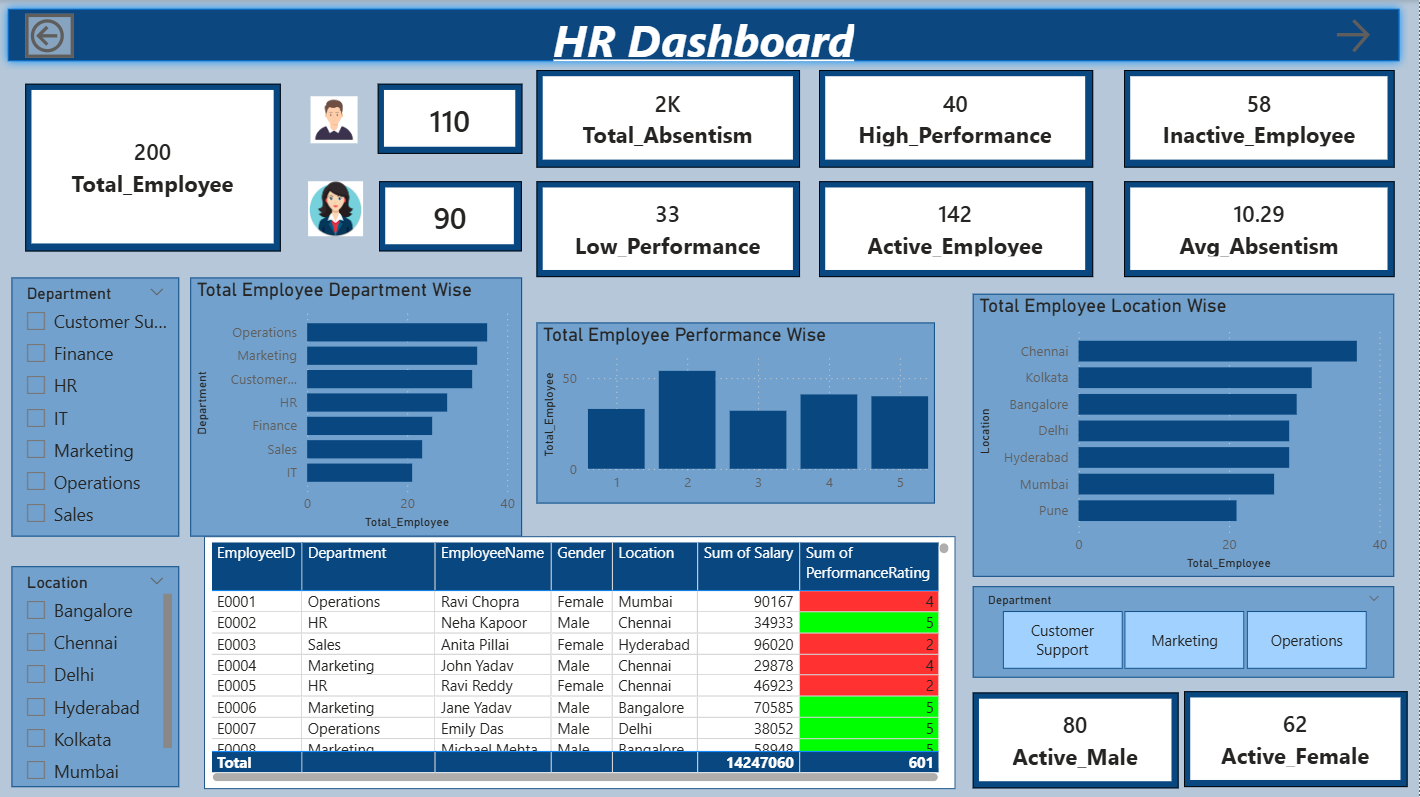

The page's visual inventory and layout, read from the dashboard file:
{"tool":"powerbi","page":{"name":"Dashboard","canvas":[1280,720],"ordinal":1},"visuals":[{"type":"shape","box":[0,0,1270.7,63.1],"z":0},{"type":"cardVisual","fields":{"Data":["Sheet1.M_Active_Employee"]},"box":[739.6,163.3,247,86.4],"z":1000},{"type":"cardVisual","fields":{"Data":["Sheet1.M_Inactive_Employee"]},"box":[1014.1,63.1,244.3,87.8],"z":2000},{"type":"cardVisual","fields":{"Data":["Sheet1._M_Total_Employee"]},"box":[23.3,75.5,230.5,150.9],"z":3000},{"type":"cardVisual","fields":{"Data":["Sheet1.M_Female"]},"box":[343.1,163.3,129,63.1],"z":4000},{"type":"cardVisual","fields":{"Data":["Sheet1.M_Male"]},"box":[341.7,75.5,130.4,63.1],"z":5000},{"type":"cardVisual","fields":{"Data":["Sheet1.M_Total_Absentism"]},"box":[484.4,63.1,237.4,87.8],"z":6000},{"type":"cardVisual","fields":{"Data":["Sheet1.M_Avg_Absentism"]},"box":[1014.1,163.3,244.3,86.4],"z":7000},{"type":"image","box":[274.4,163.3,59,49.4],"z":8000},{"type":"image","box":[270.3,86.4,63.1,42.5],"z":9000},{"type":"cardVisual","fields":{"Data":["Sheet1.M_High_Performance"]},"box":[739.6,63.1,247,87.8],"z":10000},{"type":"cardVisual","fields":{"Data":["Sheet1.M_Low_Performance"]},"box":[484.4,163.3,237.4,86.4],"z":11000},{"type":"slicer","fields":{"Values":["Sheet1.Department"]},"box":[11,249.7,150.9,233.3],"z":12000},{"type":"slicer","fields":{"Values":["Sheet1.Location"]},"box":[11,510.5,150.9,199],"z":13000},{"type":"columnChart","title":"Total Employee Performance Wise","fields":{"Y":["Sheet1.M_Total_Employee"],"Category":["Sheet1.PerformanceRating"]},"box":[484.4,290.9,359.5,163.3],"z":14000},{"type":"clusteredBarChart","title":"Total Employee Location Wise","fields":{"Y":["Sheet1.M_Total_Employee"],"Category":["Sheet1.Location"]},"box":[878.2,264.8,380.1,255.2],"z":15000},{"type":"slicer","fields":{"Values":["Sheet1.Department"]},"box":[878.2,528.3,380.1,82.3],"z":16000},{"type":"cardVisual","fields":{"Data":["Sheet1.M_Active_Female"]},"box":[1069,623,201.7,86.4],"z":17000},{"type":"clusteredBarChart","title":"Total Employee Department Wise","fields":{"Y":["Sheet1.M_Total_Employee"],"Category":["Sheet1.Department"]},"box":[172.9,249.7,299.1,233.3],"z":18000},{"type":"tableEx","fields":{"Values":["Sheet1.EmployeeID","Sheet1.Department","Sheet1.EmployeeName","Sheet1.Gender","Sheet1.Location","Sum(Sheet1.Salary)","Sum(Sheet1.PerformanceRating)"]},"box":[185.2,483,677.9,227.8],"z":19000},{"type":"cardVisual","fields":{"Data":["Sheet1.M_Active_Male"]},"box":[878.2,624.4,185.2,86.4],"z":20000},{"type":"actionButton","box":[23.3,12.3,43.9,39.8],"z":21000},{"type":"actionButton","box":[1200.7,12.3,57.6,39.8],"z":22000}]}

Visuals, with their boxes in screenshot pixels (x1, y1, x2, y2), scaled from the page's 1280x720 canvas onto the 1420x797 screenshot:
shape: [left=0, top=0, right=1410, bottom=70]
cardVisual - Sheet1.M_Active_Employee: [left=820, top=181, right=1095, bottom=276]
cardVisual - Sheet1.M_Inactive_Employee: [left=1125, top=70, right=1396, bottom=167]
cardVisual - Sheet1._M_Total_Employee: [left=26, top=84, right=282, bottom=251]
cardVisual - Sheet1.M_Female: [left=381, top=181, right=524, bottom=251]
cardVisual - Sheet1.M_Male: [left=379, top=84, right=524, bottom=153]
cardVisual - Sheet1.M_Total_Absentism: [left=537, top=70, right=801, bottom=167]
cardVisual - Sheet1.M_Avg_Absentism: [left=1125, top=181, right=1396, bottom=276]
image: [left=304, top=181, right=370, bottom=235]
image: [left=300, top=96, right=370, bottom=143]
cardVisual - Sheet1.M_High_Performance: [left=820, top=70, right=1095, bottom=167]
cardVisual - Sheet1.M_Low_Performance: [left=537, top=181, right=801, bottom=276]
slicer - Sheet1.Department: [left=12, top=276, right=180, bottom=535]
slicer - Sheet1.Location: [left=12, top=565, right=180, bottom=785]
"Total Employee Performance Wise" columnChart: [left=537, top=322, right=936, bottom=503]
"Total Employee Location Wise" clusteredBarChart: [left=974, top=293, right=1396, bottom=576]
slicer - Sheet1.Department: [left=974, top=585, right=1396, bottom=676]
cardVisual - Sheet1.M_Active_Female: [left=1186, top=690, right=1410, bottom=785]
"Total Employee Department Wise" clusteredBarChart: [left=192, top=276, right=524, bottom=535]
tableEx - Sheet1.EmployeeID x Sheet1.Department: [left=205, top=535, right=958, bottom=787]
cardVisual - Sheet1.M_Active_Male: [left=974, top=691, right=1180, bottom=787]
actionButton: [left=26, top=14, right=75, bottom=58]
actionButton: [left=1332, top=14, right=1396, bottom=58]
